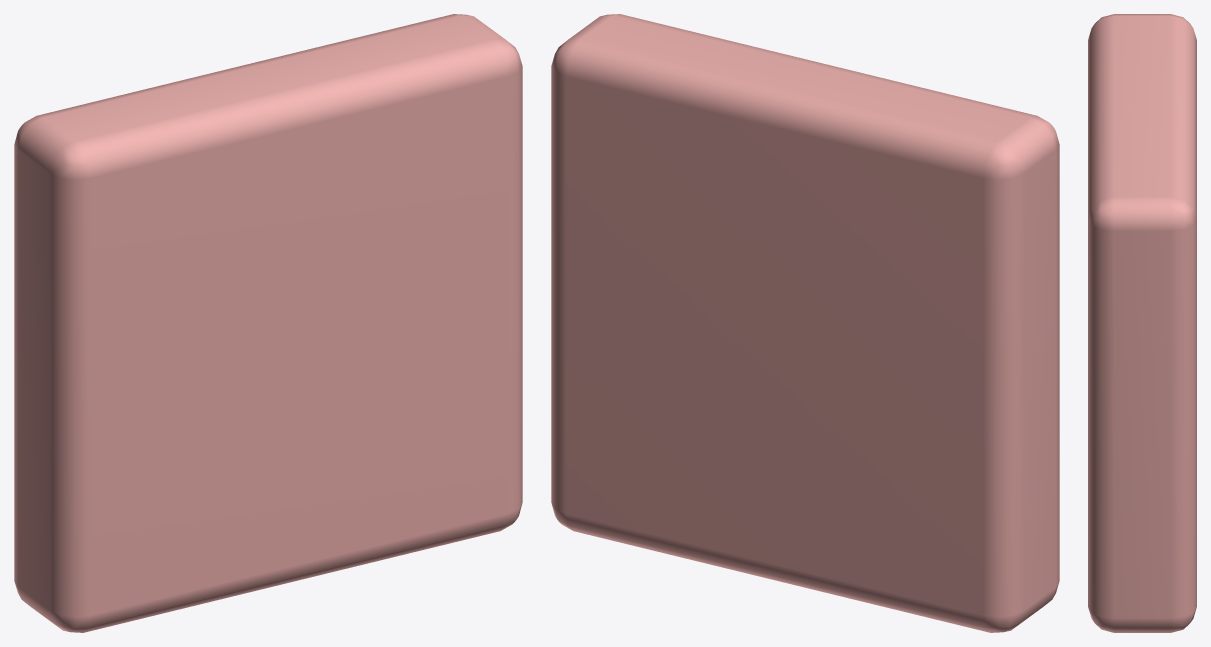
The model's file is shape-square-pink.glb.
The picture shows the model from 3 angles, left to right: view 1: azimuth 30°, elevation 25°; view 2: azimuth 150°, elevation 25°; view 3: azimuth 270°, elevation 25°; orthographic projection. The views are drawn at different scales.
Visible parts, largest first — view 1: solid square; view 2: solid square; view 3: solid square.
Part boxes in pixels (x1,y1,x2,y2): solid square: (14,14,522,632); solid square: (551,14,1059,632); solid square: (1088,14,1196,632).
Size of the model in its own units: 1.1 by 1.1 by 0.25.
